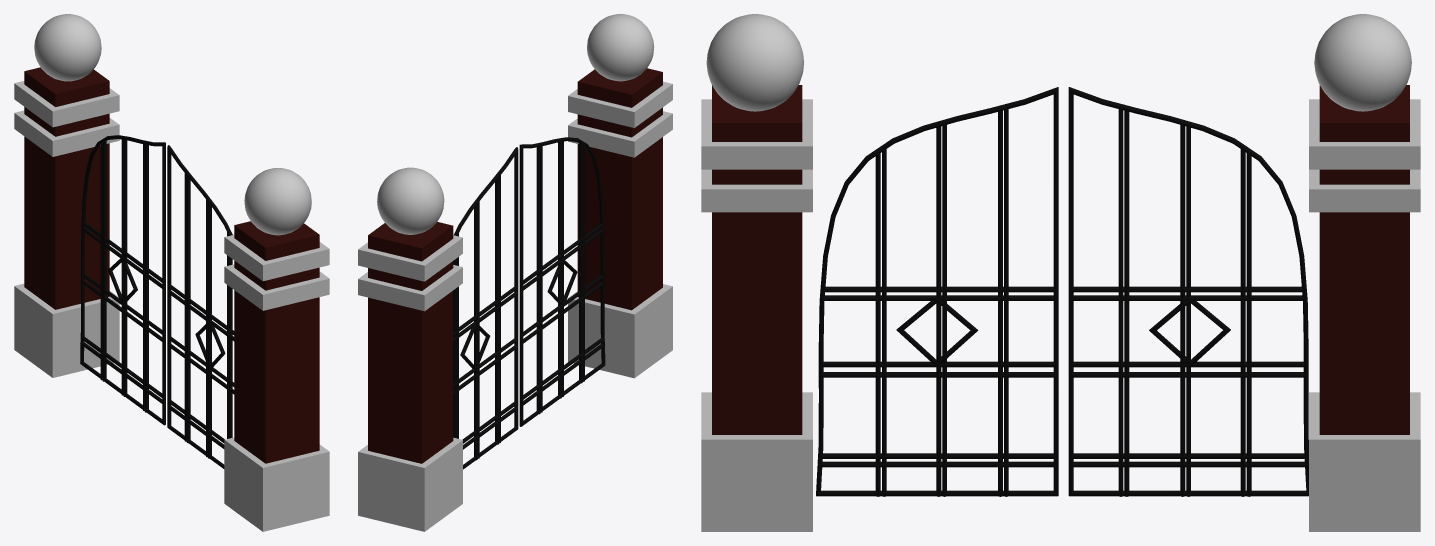
Rendered from Gate.obj.
3 renders of one model, left to right at view 1: azimuth 30°, elevation 25°; view 2: azimuth 150°, elevation 25°; view 3: azimuth 270°, elevation 25°, orthographic. The views are drawn at different scales.
Visible parts, largest first — view 1: Box20179, Box20183, Line001, Line002, Box20182, Box20186, Sphere001, Sphere002, Box20180, Box20184, Box20181, Box20185; view 2: Box20183, Box20179, Line002, Line001, Box20186, Box20182, Sphere002, Sphere001, Box20184, Box20185, Box20181, Box20180; view 3: Line001, Line002, Box20179, Box20183, Box20182, Box20186, Sphere001, Sphere002, Box20181, Box20184, Box20180, Box20185.
Part boxes in pixels (x1=…): Box20179: x1=234, y1=221, x2=319, y2=463; Box20183: x1=24, y1=67, x2=109, y2=309; Line001: x1=80, y1=135, x2=165, y2=425; Line002: x1=167, y1=145, x2=234, y2=468; Box20182: x1=224, y1=437, x2=329, y2=531; Box20186: x1=14, y1=283, x2=119, y2=377; Sphere001: x1=244, y1=168, x2=311, y2=235; Sphere002: x1=34, y1=14, x2=101, y2=81; Box20180: x1=224, y1=264, x2=329, y2=310; Box20184: x1=14, y1=81, x2=119, y2=127; Box20181: x1=224, y1=235, x2=329, y2=281; Box20185: x1=14, y1=110, x2=119, y2=156; Box20183: x1=368, y1=222, x2=453, y2=463; Box20179: x1=577, y1=68, x2=662, y2=310; Line002: x1=519, y1=137, x2=605, y2=426; Line001: x1=453, y1=147, x2=518, y2=469; Box20186: x1=358, y1=437, x2=462, y2=531; Box20182: x1=568, y1=284, x2=672, y2=378; Sphere002: x1=377, y1=167, x2=444, y2=234; Sphere001: x1=587, y1=14, x2=654, y2=81; Box20184: x1=358, y1=235, x2=462, y2=281; Box20185: x1=358, y1=265, x2=462, y2=311; Box20181: x1=568, y1=81, x2=672, y2=127; Box20180: x1=568, y1=111, x2=672, y2=157; Line001: x1=1068, y1=87, x2=1308, y2=496; Line002: x1=816, y1=87, x2=1058, y2=496; Box20179: x1=712, y1=85, x2=802, y2=434; Box20183: x1=1319, y1=85, x2=1409, y2=434; Box20182: x1=701, y1=392, x2=812, y2=531; Box20186: x1=1309, y1=392, x2=1420, y2=531; Sphere001: x1=706, y1=14, x2=803, y2=111; Sphere002: x1=1314, y1=14, x2=1411, y2=111; Box20181: x1=701, y1=99, x2=812, y2=169; Box20184: x1=1309, y1=99, x2=1420, y2=169; Box20180: x1=701, y1=169, x2=812, y2=212; Box20185: x1=1309, y1=169, x2=1420, y2=212.
Size of the model in its own units: 79.9 by 388 by 516.
